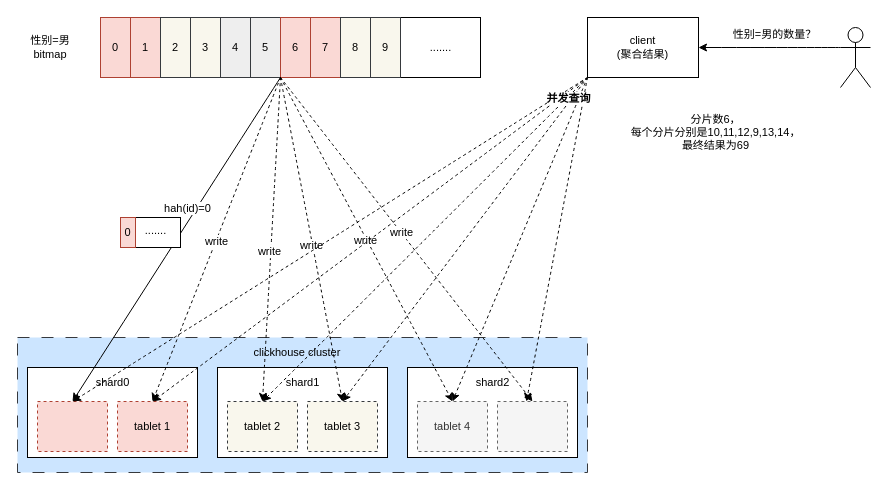
The diagram is 888 pixels wide and 490 high, and some of its shapes have lost their labels. Each missing label, with the box of its shape:
Actor: (840, 26, 870, 88)
tablet 0: (36, 400, 108, 452)
tablet 5: (496, 400, 568, 452)
